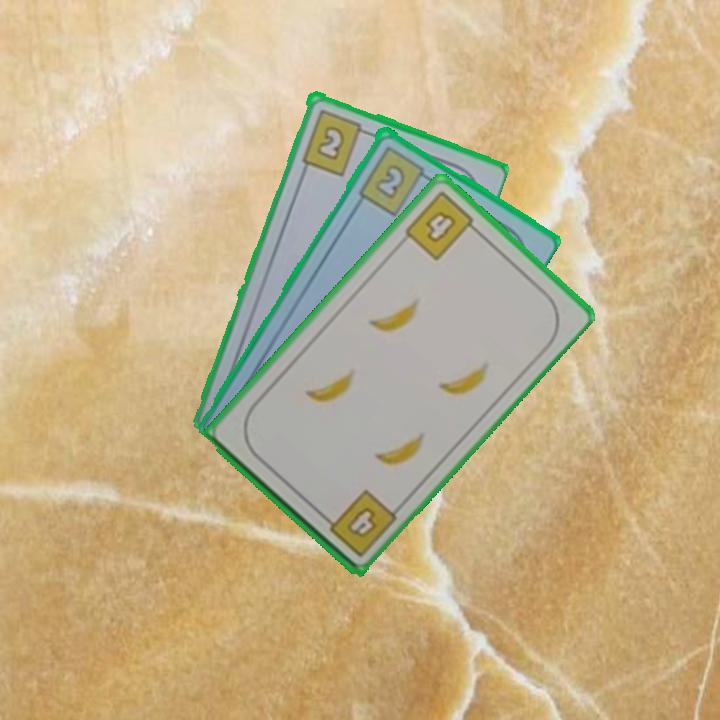2b: (355, 141, 434, 218), (298, 105, 372, 178)
4b: (401, 187, 483, 263), (317, 485, 400, 560)
